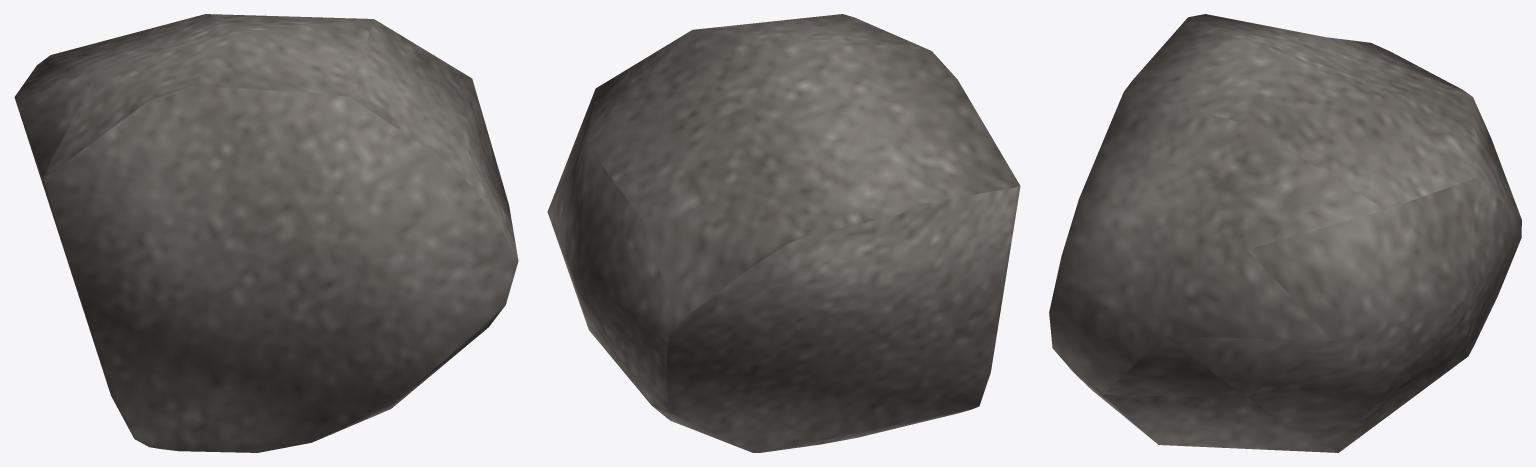
Rendered from boulder_13.glb.
The picture shows the model from 3 angles, left to right: view 1: azimuth 30°, elevation 25°; view 2: azimuth 150°, elevation 25°; view 3: azimuth 270°, elevation 25°; orthographic projection. The views are drawn at different scales.
Visible parts, largest first — view 1: boulder_13; view 2: boulder_13; view 3: boulder_13.
Boxes of the visible parts, bbox=[...] form: boulder_13: bbox=[14, 14, 518, 452]; boulder_13: bbox=[547, 14, 1020, 452]; boulder_13: bbox=[1049, 14, 1521, 452].
Bounding box in the file's own units: 3.65 × 3.2 × 3.6.
1 material, 1 textured.
